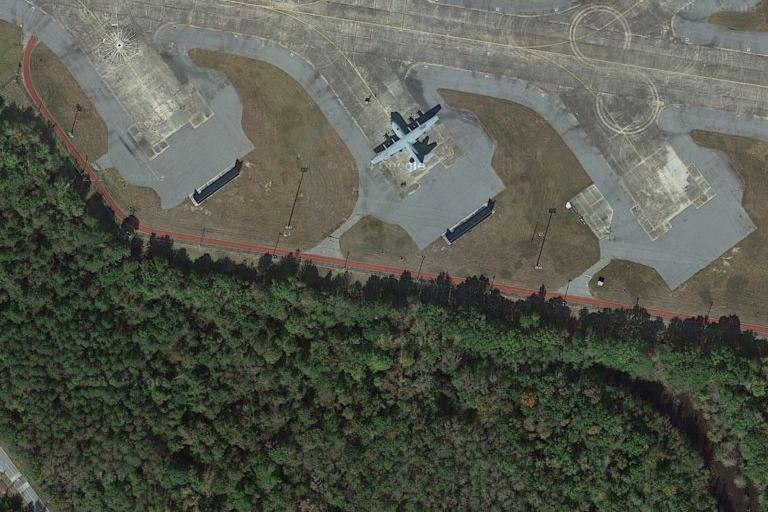C-130: (365, 109, 443, 175)
